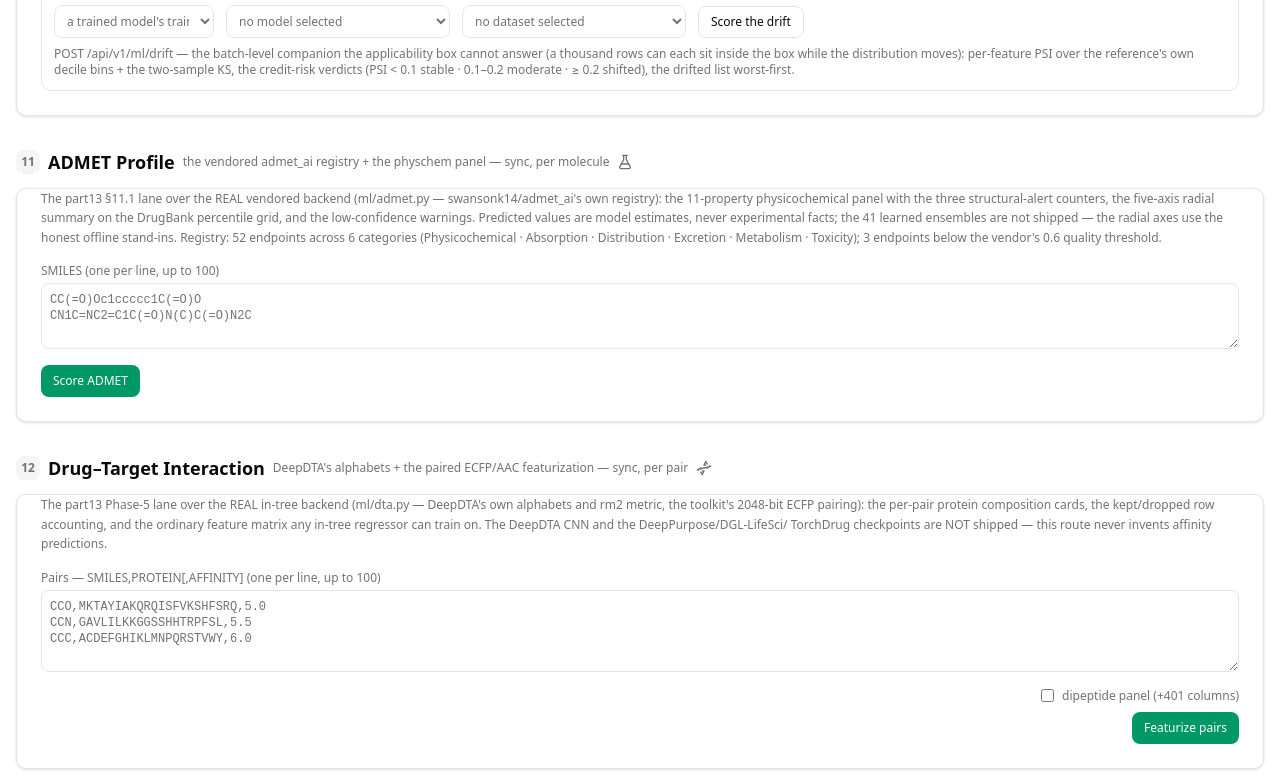
Test: the ADMET lane of the Machine Learning workspace › carries the honest provenance and disclaimer on every answer
(page scrolled)
Click the button "Score ADMET" at (90,381), box [41,365,140,397]
(page scrolled)
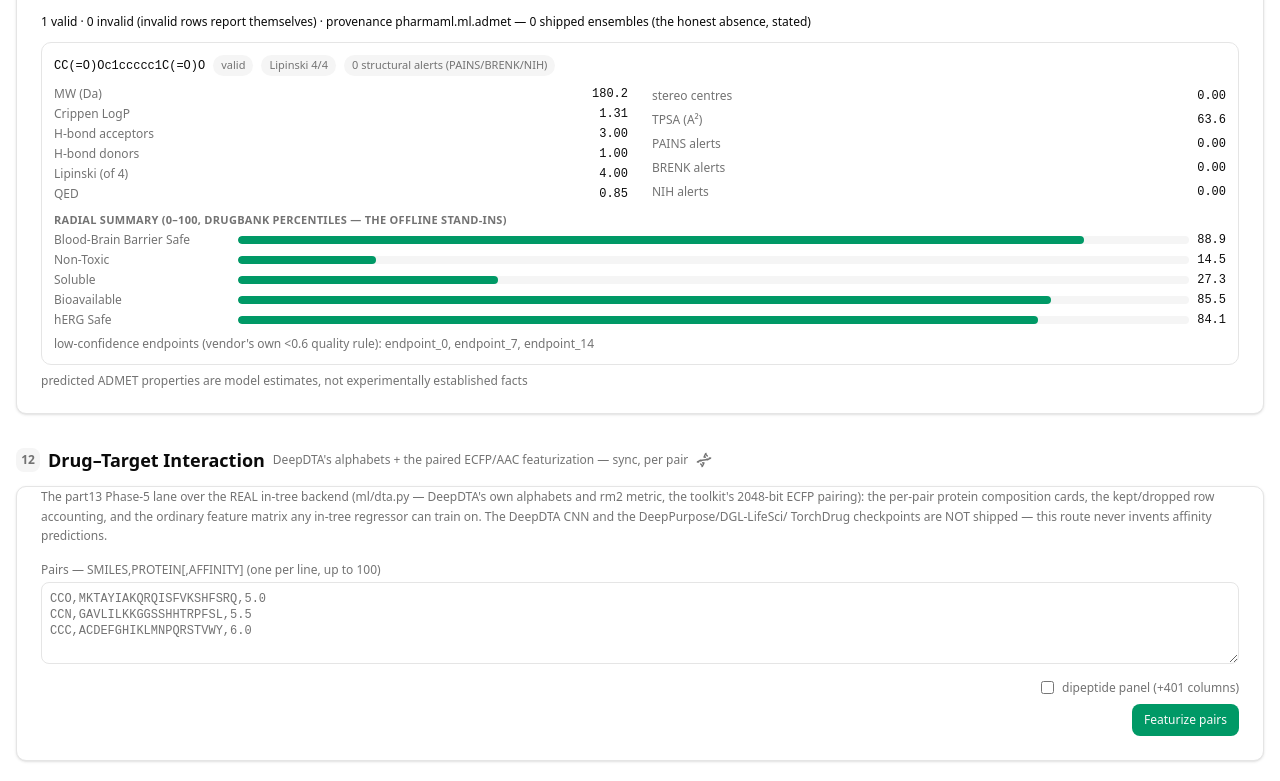
Check: the text "0 shipped ensembles (the honest absence" is shown, box [41,13,811,30]
Check: the text "predicted ADMET properties are model estimates, not experimentally established facts" is shown, box [41,372,528,389]
